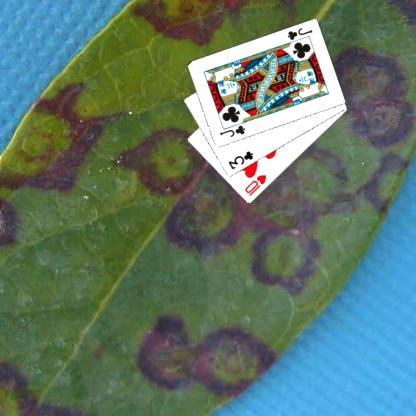10H: (242, 172, 267, 198)
3C: (226, 148, 254, 171)
JC: (217, 122, 247, 138), (284, 25, 314, 41)
